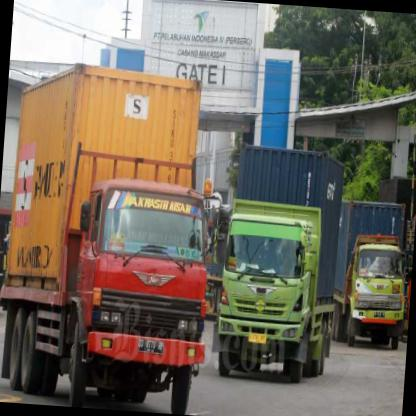truck: (68, 175, 219, 416), (214, 210, 320, 382), (344, 241, 413, 351)
